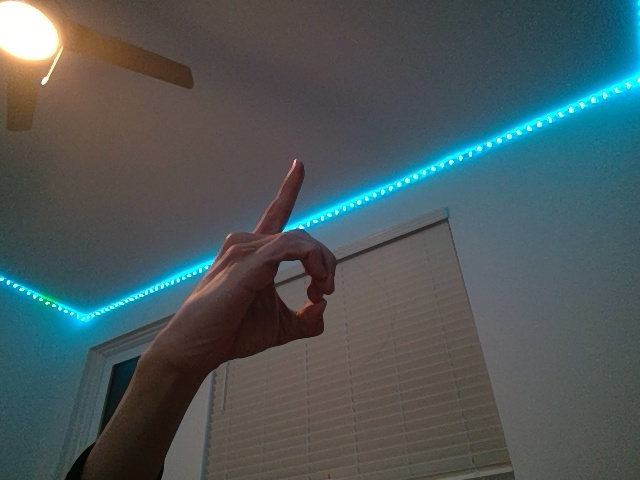d: (178, 152, 338, 361)
